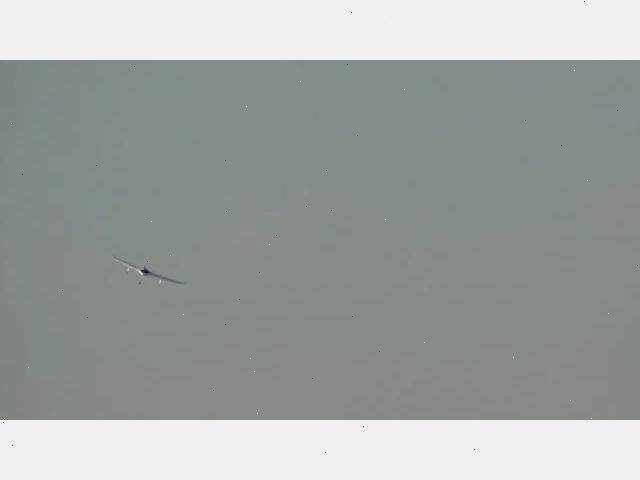Anti-Drone: (112, 258, 184, 286)
